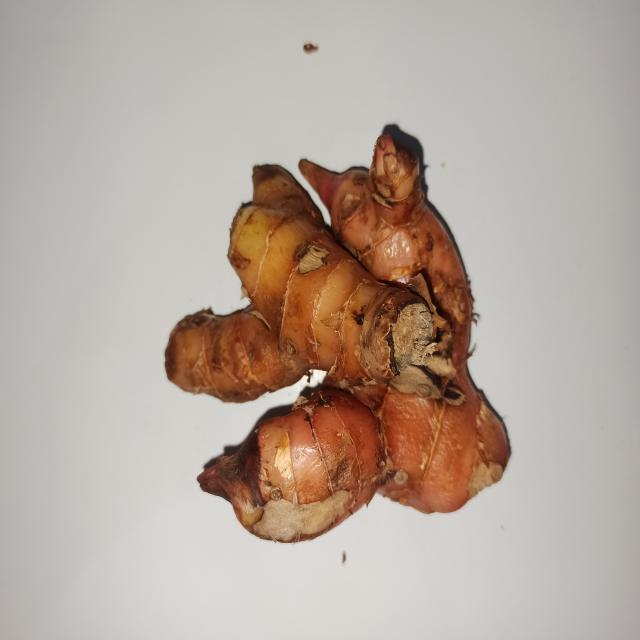ginger: (180, 140, 500, 524)
